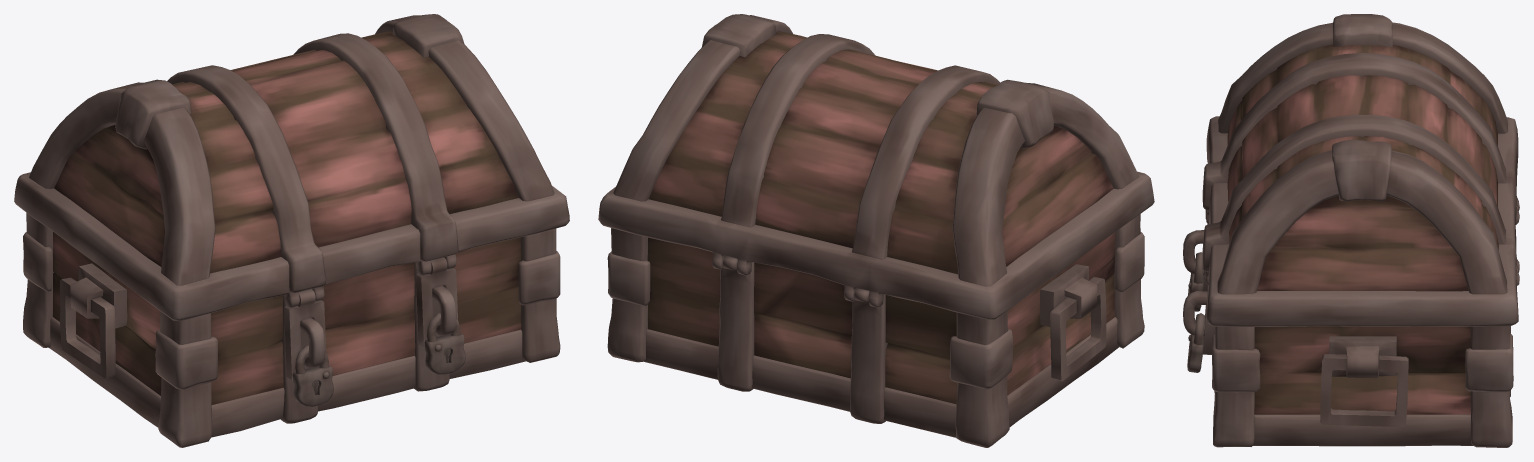
The model's file is model-CHdETlZR.glb.
The picture shows the model from 3 angles, left to right: view 1: azimuth 30°, elevation 25°; view 2: azimuth 150°, elevation 25°; view 3: azimuth 270°, elevation 25°; orthographic projection. The views are drawn at different scales.
Visible parts, largest first — view 1: Cube.063, Cube.062, Cube.067, chest_v04_metal_up.016, chest_v04_metal_up.017, chest_v04_metal_down.019, chest_v04_metal_down.020, Cube.070, chest_v04_metal_down.021, Cube.069, chest_v04_metal_up.018, Cube.066 (+5 smaller); view 2: Cube.063, Cube.067, Cube.062, chest_v04_metal_up.016, chest_v04_metal_down.019, chest_v04_metal_up.017, chest_v04_metal_down.020, Cube.070, chest_v04_metal_down.021, Cube.069, chest_v04_metal_up.018, chest_v04_holder.011 (+1 smaller); view 3: chest_v04_metal_up.016, Cube.063, Cube.067, Cube.070, chest_v04_metal_up.017, Cube.069, chest_v04_metal_down.019, chest_v04_metal_down.020, chest_v04_metal_up.018, chest_v04_metal_down.021, chest_v04_holder.011, chest_v04_holder.010 (+4 smaller).
Part boxes in pixels (x1=…): Cube.063: x1=172, y1=31, x2=518, y2=273; Cube.062: x1=211, y1=237, x2=521, y2=404; Cube.067: x1=14, y1=172, x2=569, y2=321; chest_v04_metal_up.016: x1=29, y1=15, x2=554, y2=285; chest_v04_metal_up.017: x1=167, y1=33, x2=458, y2=292; chest_v04_metal_down.019: x1=23, y1=213, x2=560, y2=447; chest_v04_metal_down.020: x1=49, y1=317, x2=525, y2=437; Cube.070: x1=54, y1=125, x2=164, y2=266; chest_v04_metal_down.021: x1=23, y1=232, x2=560, y2=389; Cube.069: x1=53, y1=232, x2=161, y2=395; chest_v04_metal_up.018: x1=115, y1=14, x2=464, y2=149; Cube.066: x1=284, y1=257, x2=457, y2=380; Cube.063: x1=649, y1=31, x2=998, y2=274; Cube.067: x1=598, y1=171, x2=1154, y2=319; Cube.062: x1=647, y1=237, x2=957, y2=403; chest_v04_metal_up.016: x1=613, y1=15, x2=1139, y2=286; chest_v04_metal_down.019: x1=607, y1=214, x2=1144, y2=447; chest_v04_metal_up.017: x1=721, y1=34, x2=1000, y2=259; chest_v04_metal_down.020: x1=644, y1=317, x2=1118, y2=437; Cube.070: x1=1002, y1=126, x2=1113, y2=266; chest_v04_metal_down.021: x1=607, y1=232, x2=1144, y2=389; Cube.069: x1=1007, y1=232, x2=1115, y2=395; chest_v04_metal_up.018: x1=701, y1=14, x2=1053, y2=148; chest_v04_holder.011: x1=1050, y1=277, x2=1106, y2=381; chest_v04_metal_up.016: x1=1217, y1=22, x2=1507, y2=294; Cube.063: x1=1227, y1=44, x2=1498, y2=249; Cube.067: x1=1205, y1=116, x2=1519, y2=326; Cube.070: x1=1257, y1=195, x2=1468, y2=291; chest_v04_metal_up.017: x1=1202, y1=52, x2=1505, y2=271; Cube.069: x1=1254, y1=326, x2=1470, y2=414; chest_v04_metal_down.019: x1=1213, y1=204, x2=1518, y2=447; chest_v04_metal_down.020: x1=1253, y1=414, x2=1473, y2=446; chest_v04_metal_up.018: x1=1332, y1=14, x2=1392, y2=201; chest_v04_metal_down.021: x1=1212, y1=333, x2=1513, y2=392; chest_v04_holder.011: x1=1320, y1=354, x2=1408, y2=427; chest_v04_holder.010: x1=1329, y1=336, x2=1396, y2=378.
Size of the model in its own units: 381 by 249 by 273.
Materials: 1 (1 with a texture image).
